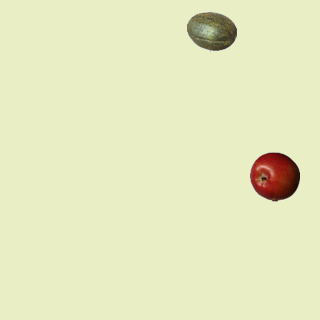Apple Braeburn: (249, 151, 299, 201)
Melon Piel de Sapo: (186, 6, 236, 56)
